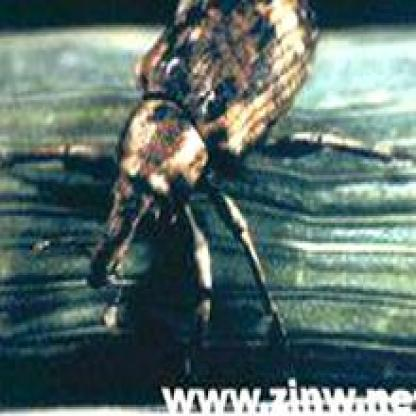rice-bug: (88, 0, 330, 326)
